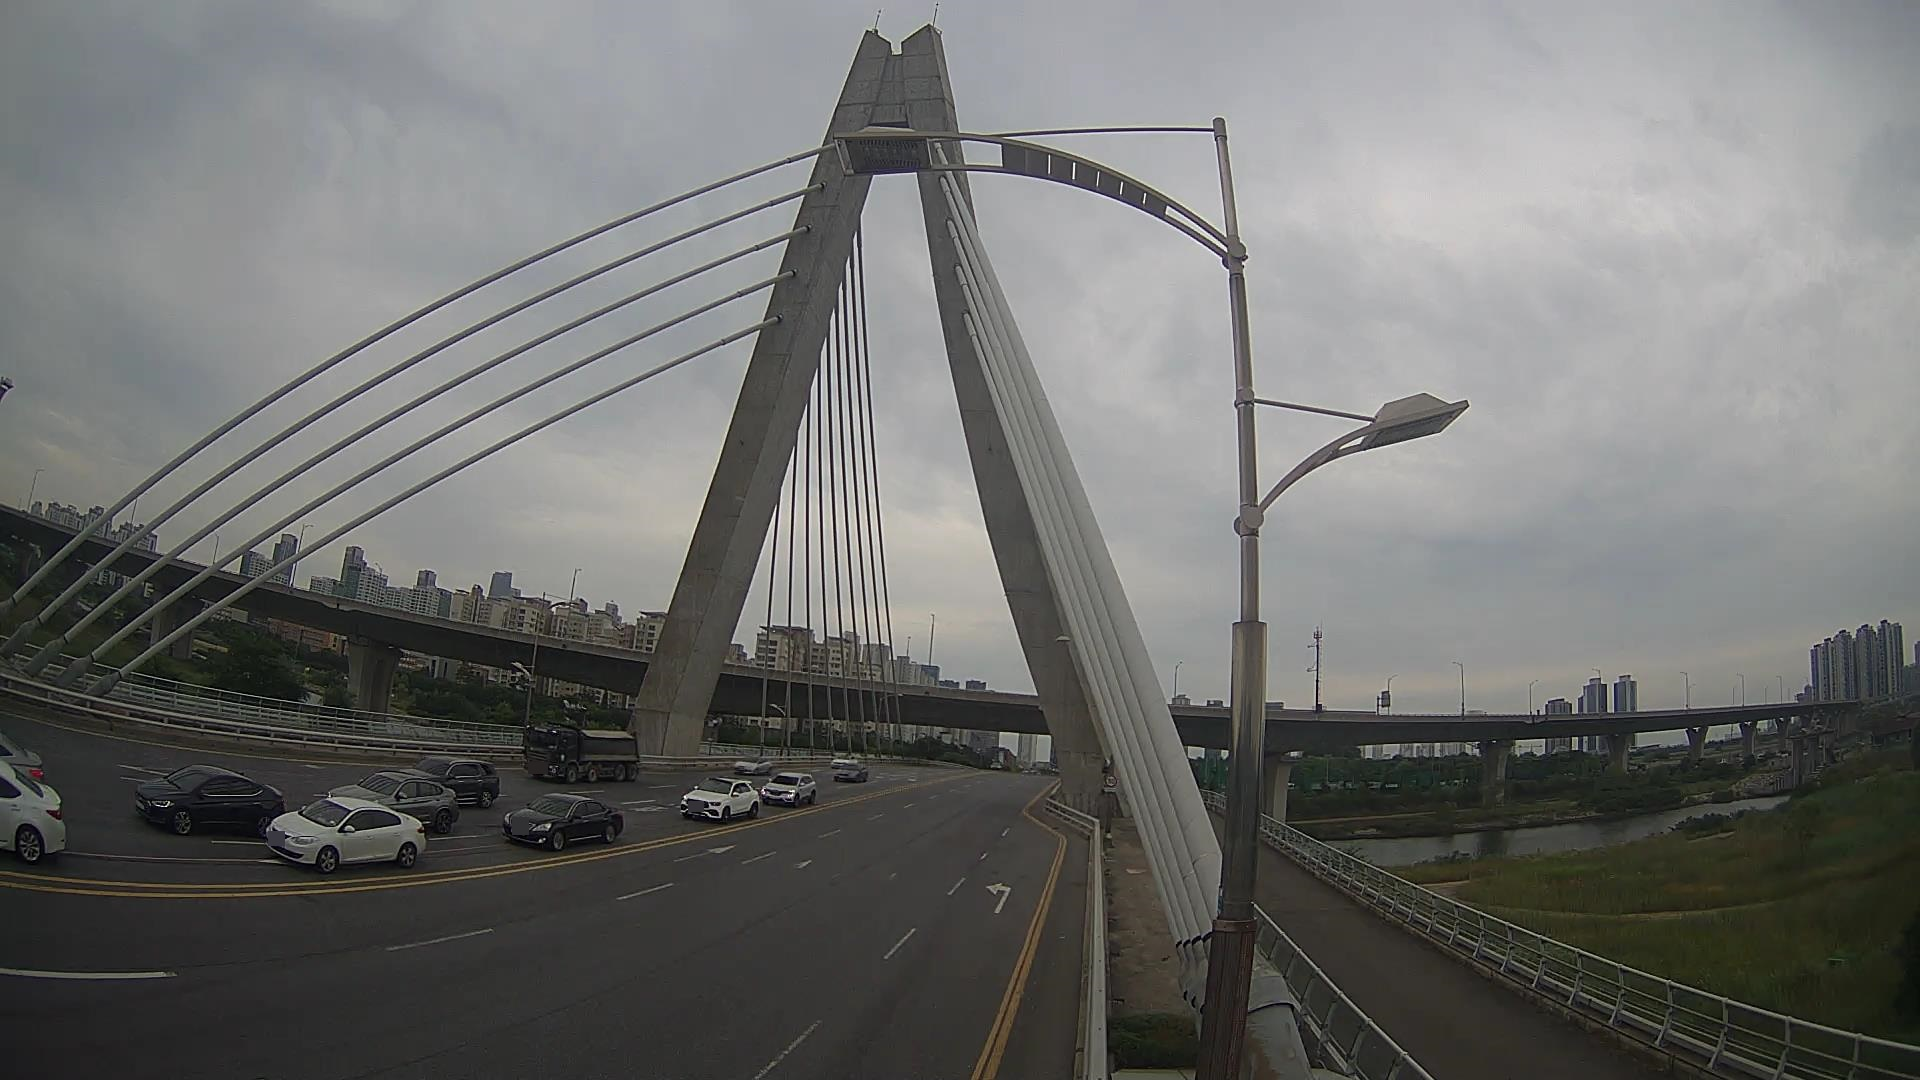정상차량: (522, 721, 641, 783)
